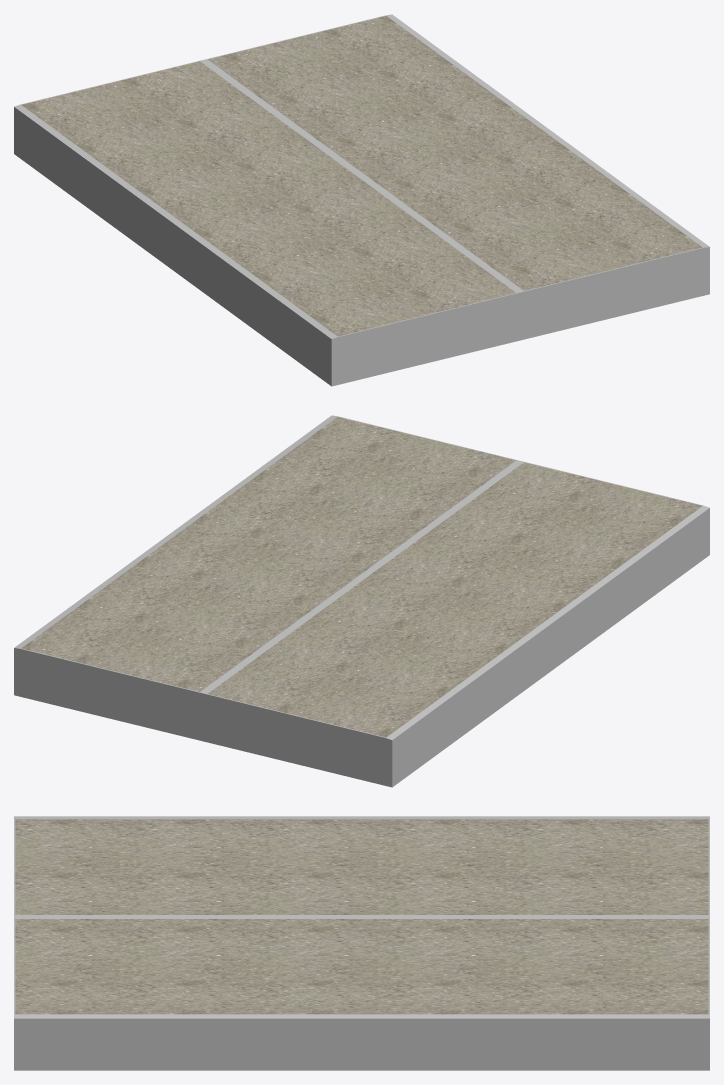
File: road_01b..fbx
3 renders of one model, top to bottom at view 1: azimuth 30°, elevation 25°; view 2: azimuth 150°, elevation 25°; view 3: azimuth 270°, elevation 25°, orthographic. The views are drawn at different scales.
Visible parts, largest first — view 1: road_01b.; view 2: road_01b.; view 3: road_01b..
Boxes of the visible parts, x1,y1,x2,y2 form: road_01b.: [14, 14, 709, 386]; road_01b.: [14, 415, 709, 787]; road_01b.: [14, 816, 709, 1070].
Size of the model in its own units: 16.5 by 2 by 24.
